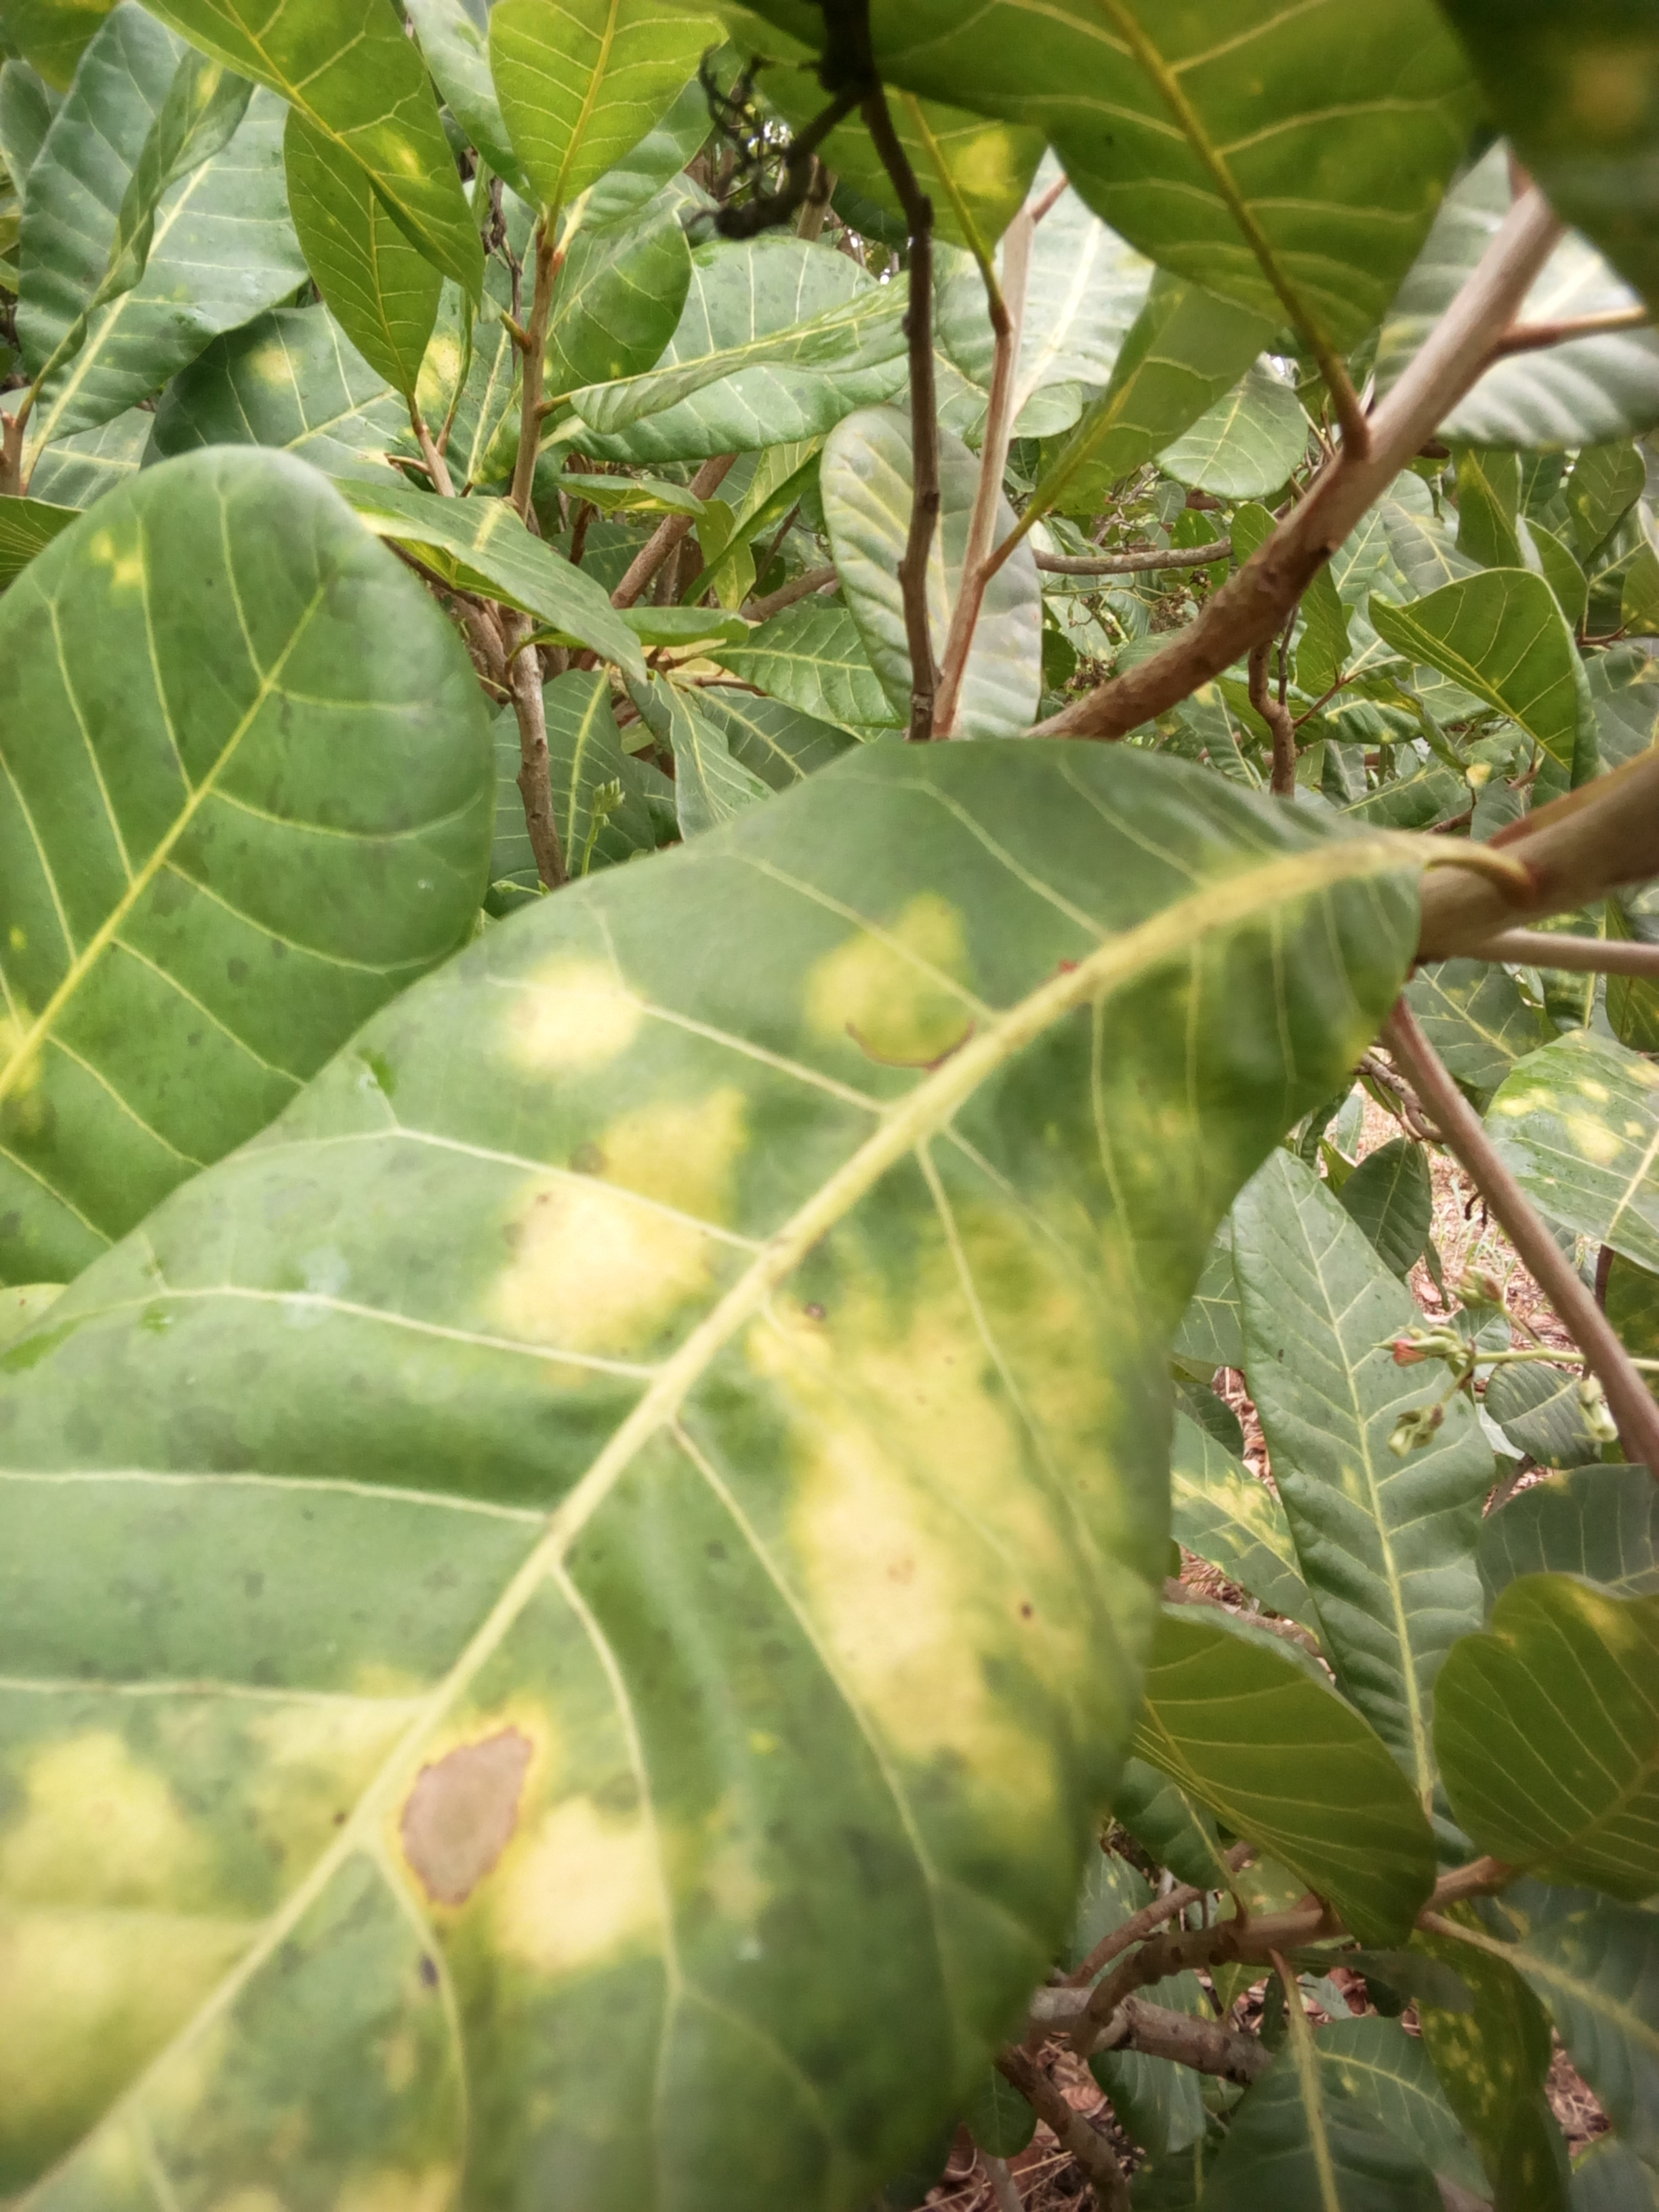Carence minérale: (9, 730, 1467, 2212), (0, 439, 511, 1245)
